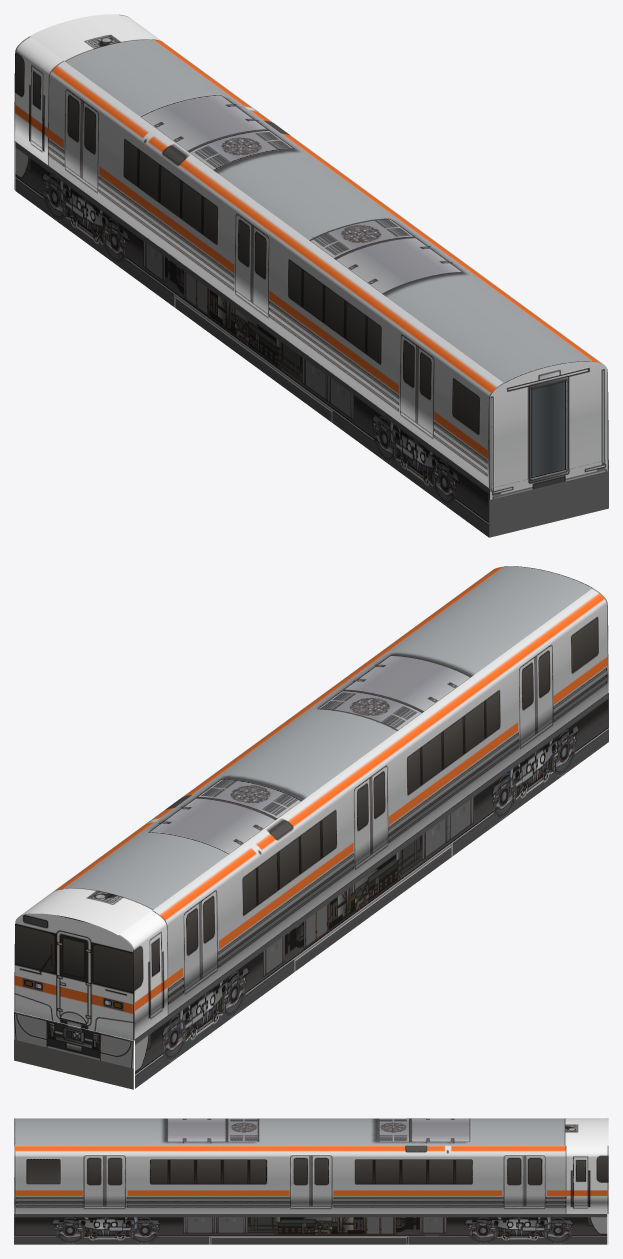
Rendered from car2.glb.
The picture shows the model from 3 angles, top to bottom: view 1: azimuth 30°, elevation 25°; view 2: azimuth 150°, elevation 25°; view 3: azimuth 270°, elevation 25°; orthographic projection. The views are drawn at different scales.
Visible parts, largest first — view 1: jr-tokai-kiha25-car2; view 2: jr-tokai-kiha25-car2; view 3: jr-tokai-kiha25-car2.
Boxes of the visible parts, bbox=[...] form: jr-tokai-kiha25-car2: bbox=[14, 14, 608, 537]; jr-tokai-kiha25-car2: bbox=[14, 566, 608, 1089]; jr-tokai-kiha25-car2: bbox=[14, 1118, 608, 1244].
Bounding box in the file's own units: 2.93 × 3.65 × 20.13.
Materials: 9 (8 with a texture image).
